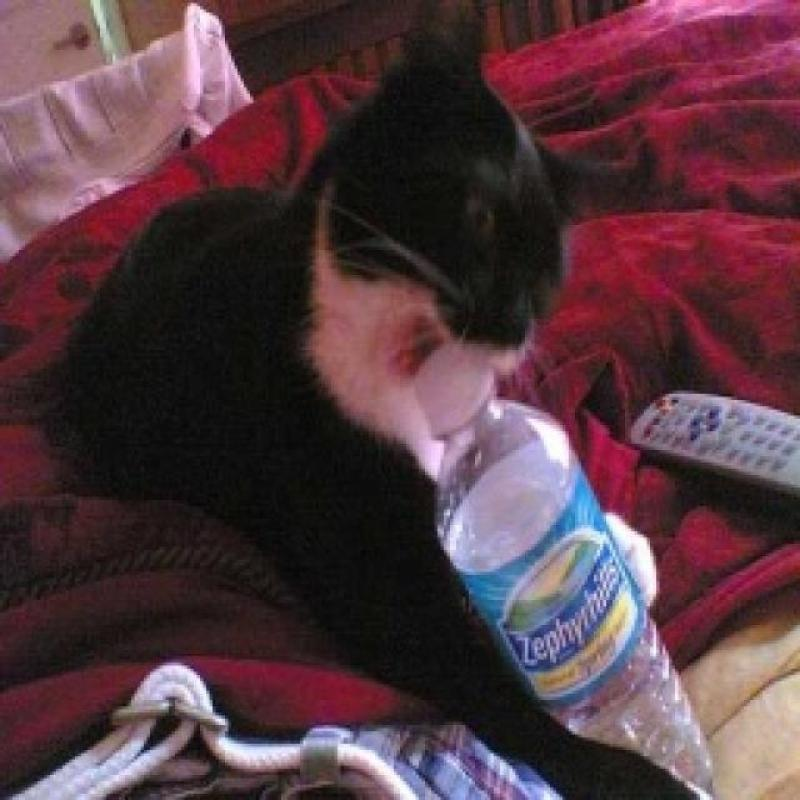botella: (412, 347, 712, 797)
